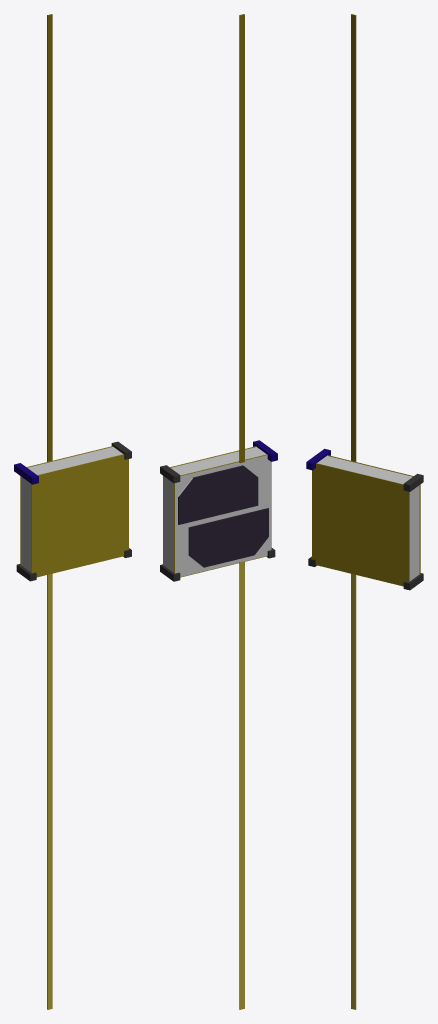
Rendered from spacebee_med.gltf.
3 views of the same model, side by side, from view 1: azimuth 30°, elevation 25°; view 2: azimuth 210°, elevation 25°; view 3: azimuth 330°, elevation 25° (orthographic).
Parts seen in each view (by area): view 1: Cube.001, Cube.009, Cube.010, Cube, Cube.002, Cube.006; view 2: Cube, Cube.012, Cube.011, Cube.009, Cube.010, Cube.002; view 3: Cube.001, Cube.009, Cube.010, Cube, Cube.002.
Boxes of the visible parts, left/top/right/bottom form: Cube.001: left=31, top=454, right=128, bottom=577; Cube.009: left=47, top=14, right=52, bottom=461; Cube.010: left=47, top=573, right=52, bottom=1009; Cube: left=21, top=447, right=122, bottom=571; Cube.002: left=20, top=446, right=113, bottom=564; Cube.006: left=14, top=463, right=38, bottom=484; Cube: left=164, top=447, right=271, bottom=576; Cube.012: left=178, top=465, right=258, bottom=524; Cube.011: left=188, top=508, right=268, bottom=567; Cube.009: left=239, top=14, right=244, bottom=463; Cube.010: left=239, top=561, right=244, bottom=1009; Cube.002: left=174, top=454, right=271, bottom=577; Cube.001: left=312, top=463, right=409, bottom=586; Cube.009: left=351, top=14, right=356, bottom=461; Cube.010: left=351, top=573, right=356, bottom=1009; Cube: left=317, top=456, right=419, bottom=581; Cube.002: left=327, top=455, right=420, bottom=574.
Size of the model in its own units: 2.11 by 19.74 by 0.6597.
